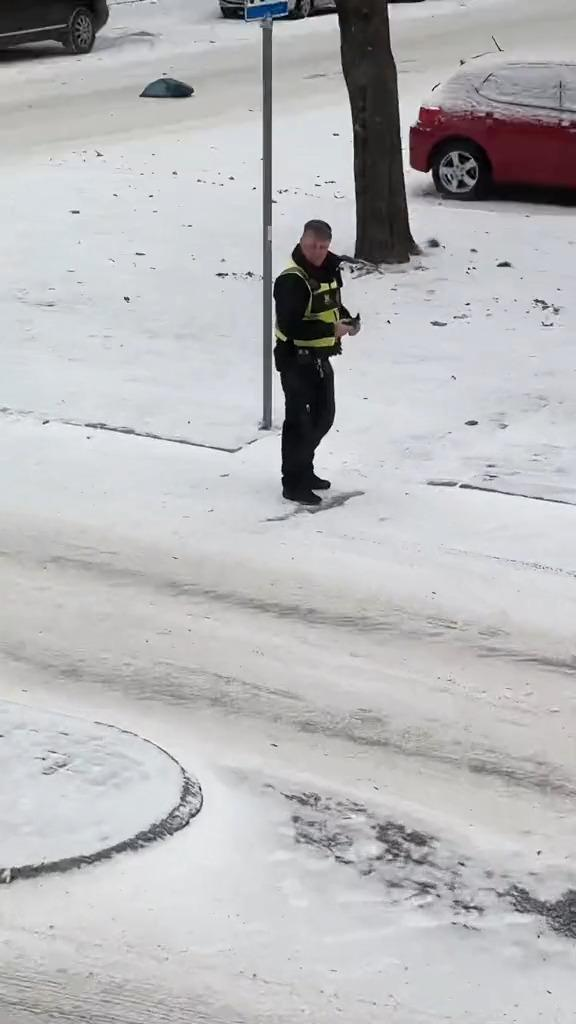parking-attendant: (274, 220, 359, 504)
